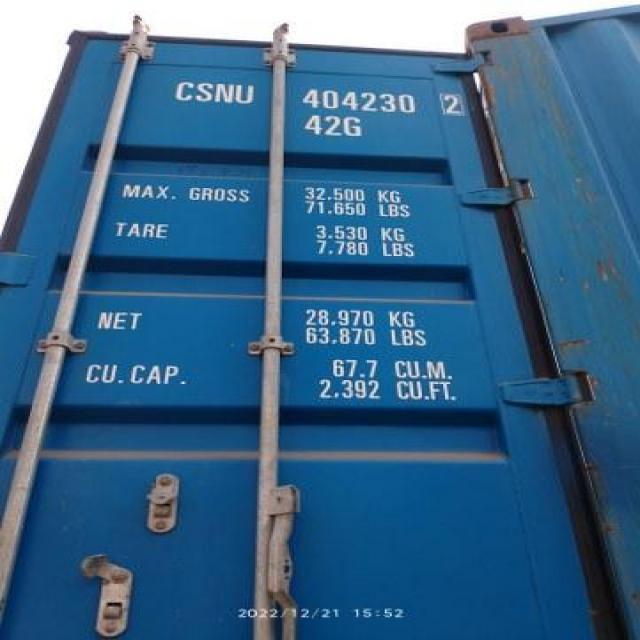container_number_h: (146, 68, 519, 171)
